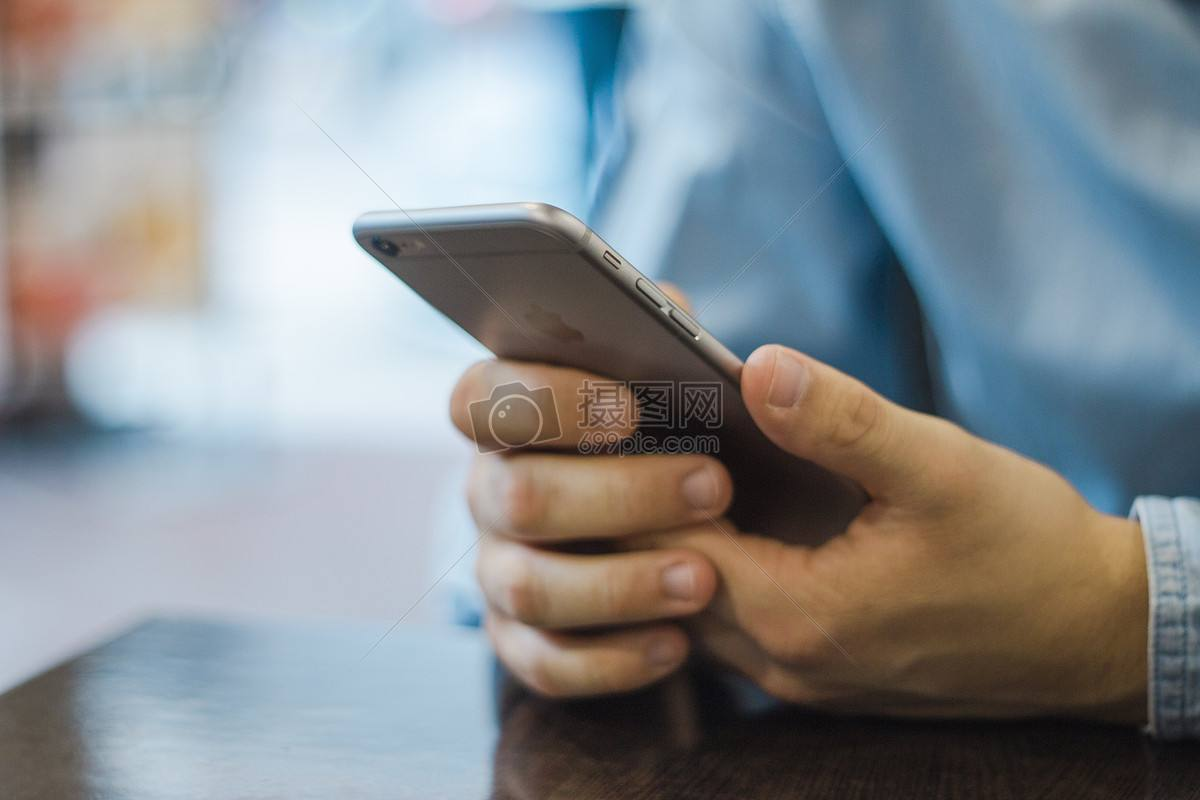phone: (343, 178, 1151, 721)
